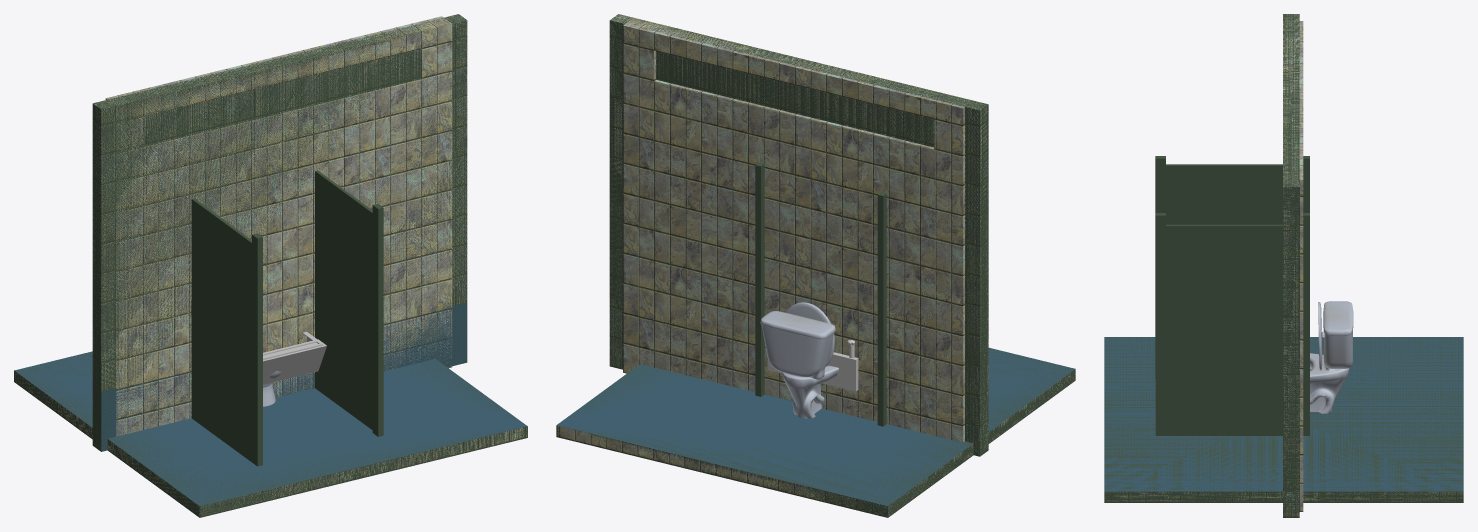
The model's file is toileeet.fbx.
3 renders of one model, left to right at view 1: azimuth 30°, elevation 25°; view 2: azimuth 150°, elevation 25°; view 3: azimuth 270°, elevation 25°, orthographic. The views are drawn at different scales.
Parts seen in each view (by area): view 1: Group7, Group6, Group5, Group2, Group4; view 2: Group7, Group5, Group6, Group3, Group2, Group4; view 3: Group5, Group2, Group6, Group3, Group7.
Part boxes in pixels (x1,y1,x2,y2): Group7: (105,16,452,436); Group6: (92,14,467,451); Group5: (14,351,527,517); Group2: (191,170,383,466); Group4: (263,331,326,384); Group7: (623,18,969,442); Group5: (556,347,1075,517); Group6: (609,14,988,456); Group3: (760,302,838,418); Group2: (755,162,886,426); Group4: (767,340,858,391); Group5: (1104,337,1463,502); Group2: (1155,156,1309,435); Group6: (1283,14,1299,517); Group3: (1310,301,1353,413); Group7: (1283,21,1303,511).
Size of the model in its own units: 237 by 223 by 208.
